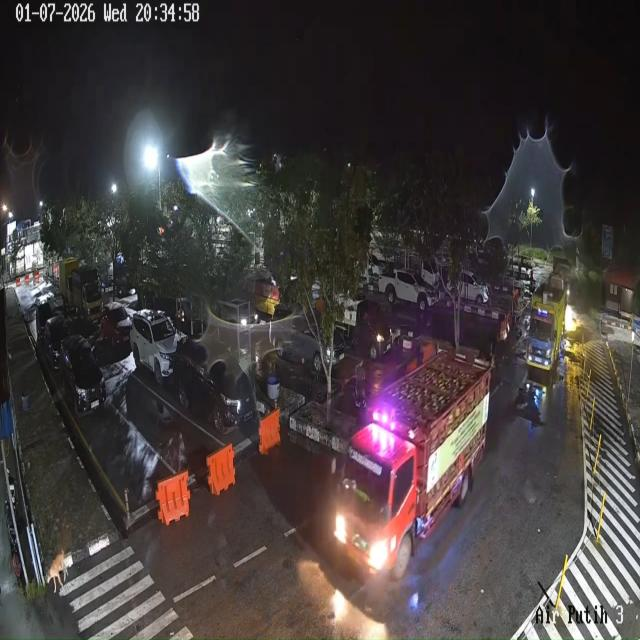Golongan IVA: (174, 340, 258, 433), (270, 305, 346, 375), (60, 335, 106, 417), (130, 309, 179, 385), (42, 316, 70, 370), (100, 301, 132, 347), (36, 300, 54, 342)
Golongan IVB: (378, 269, 439, 312)
Golongan VB: (334, 350, 490, 579), (526, 273, 567, 371), (59, 257, 102, 322)
